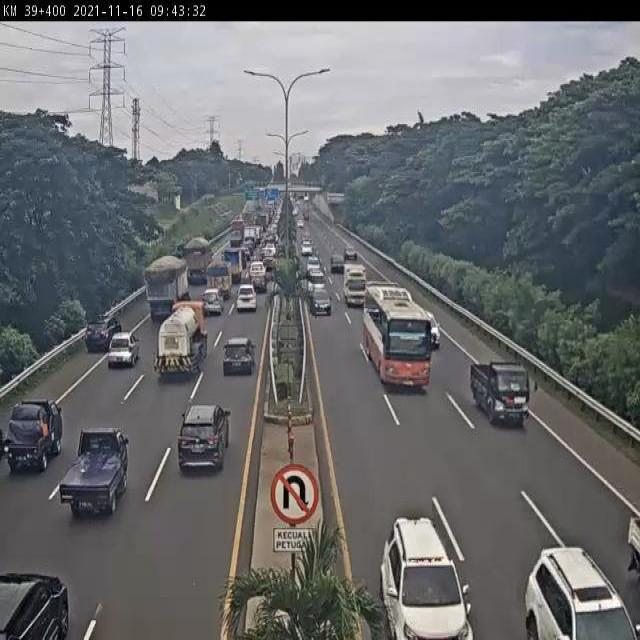big bus: (362, 280, 439, 388)
car: (379, 513, 473, 640), (58, 424, 130, 520), (4, 397, 62, 480), (176, 403, 231, 477), (84, 312, 121, 359), (106, 329, 140, 371), (221, 342, 255, 382), (310, 285, 333, 316), (201, 285, 224, 315), (235, 287, 258, 317), (250, 262, 268, 290)
small truck: (471, 359, 538, 428), (344, 262, 368, 306), (204, 263, 231, 300)
truck-m-: (153, 298, 209, 382), (143, 253, 193, 329), (180, 239, 211, 288)
